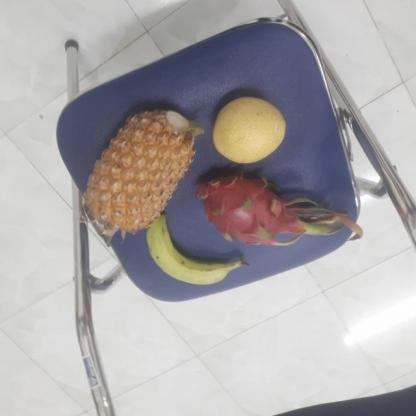banana: (136, 220, 236, 287)
pear: (209, 96, 288, 163)
pineapple: (83, 110, 198, 232)
pitaya: (194, 166, 304, 246)
